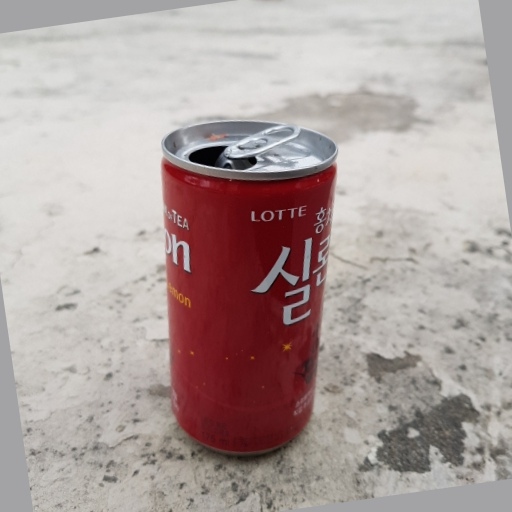Metal_0: (156, 117, 339, 461)
